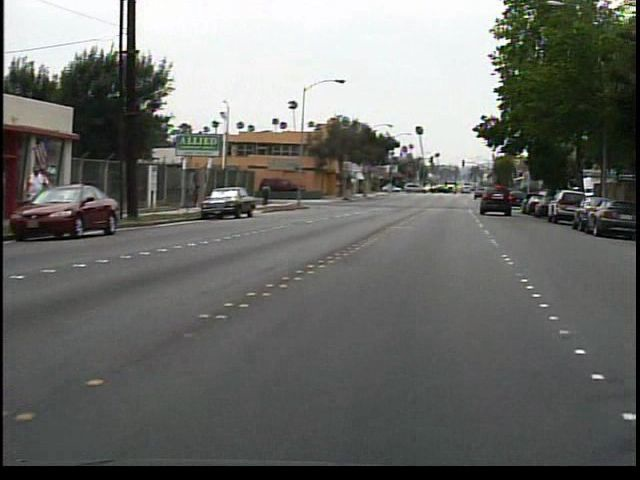person: (30, 160, 60, 233), (264, 180, 280, 211)
